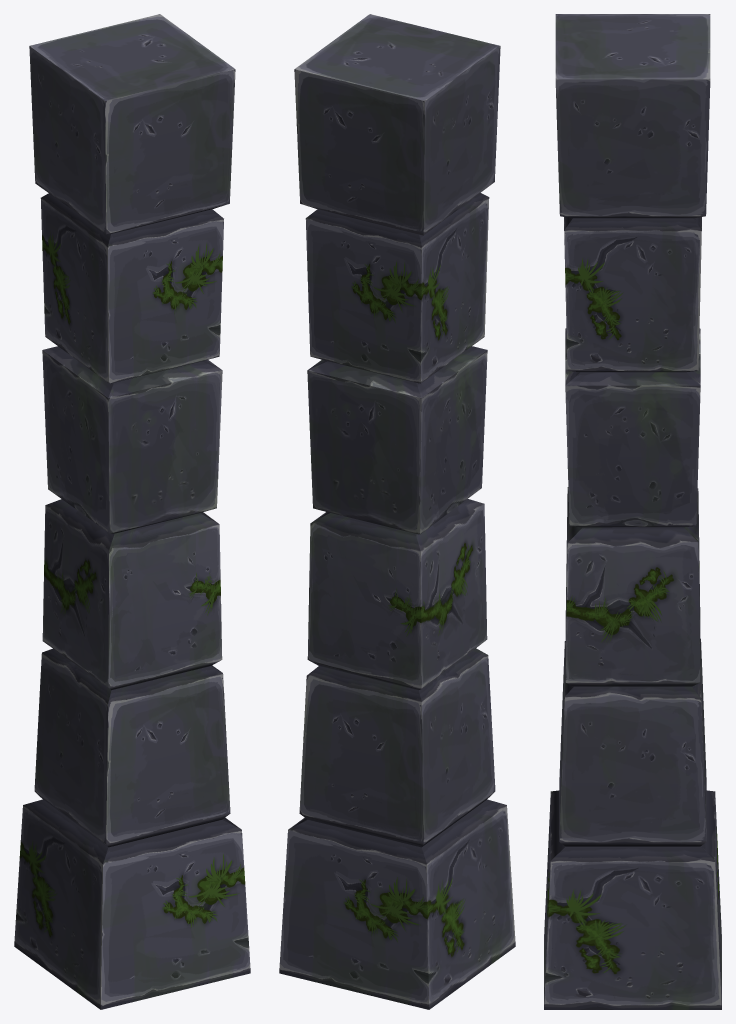
Rendered from MOD_Column_01_large.fbx.
3 views of the same model, side by side, from view 1: azimuth 30°, elevation 25°; view 2: azimuth 150°, elevation 25°; view 3: azimuth 270°, elevation 25° (orthographic). The views are drawn at different scales.
Visible parts, largest first — view 1: MOD_Column_01_large; view 2: MOD_Column_01_large; view 3: MOD_Column_01_large.
Part boxes in pixels (bbox=[...]): MOD_Column_01_large: bbox=[14, 14, 250, 1009]; MOD_Column_01_large: bbox=[279, 14, 515, 1009]; MOD_Column_01_large: bbox=[544, 14, 721, 1009].
Size of the model in its own units: 103 by 590 by 103.
